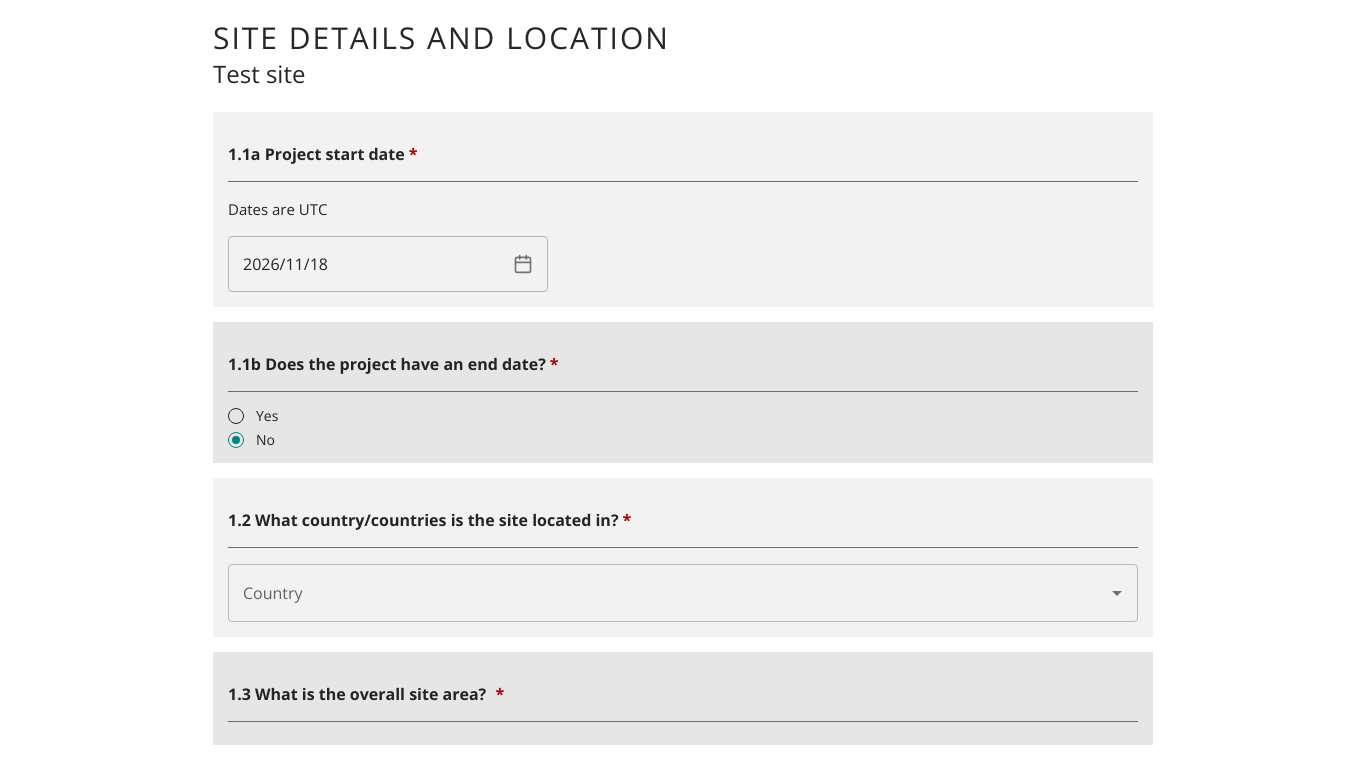
Test: section forms › ProjectDetailsForm › asks for an end date only once "Yes" is picked, and stores a boolean
Check: the text "1.1c Project end date" is not shown
Click the radio button labelled "Yes": point(253, 415) left=228, top=406, right=278, bottom=424
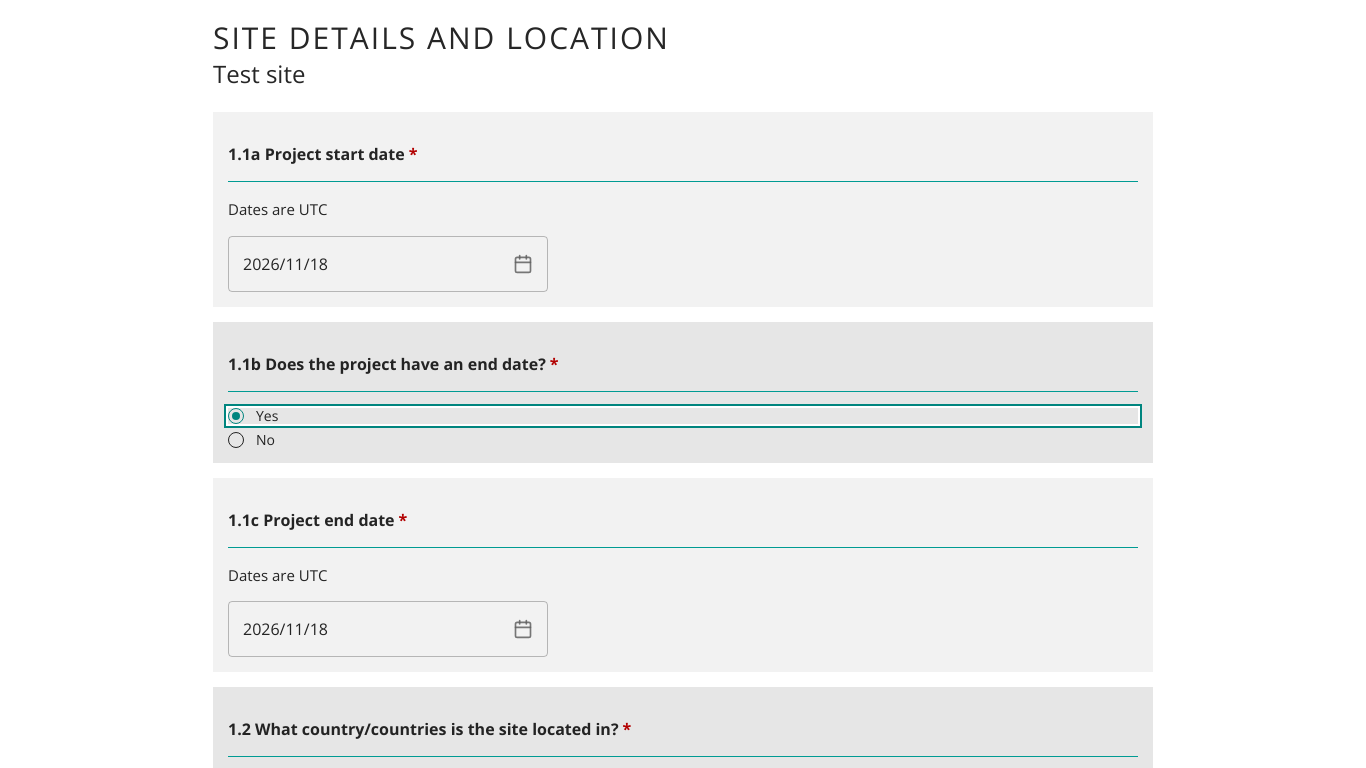
Check: the text "1.1c Project end date" is shown, box left=228, top=508, right=395, bottom=530
